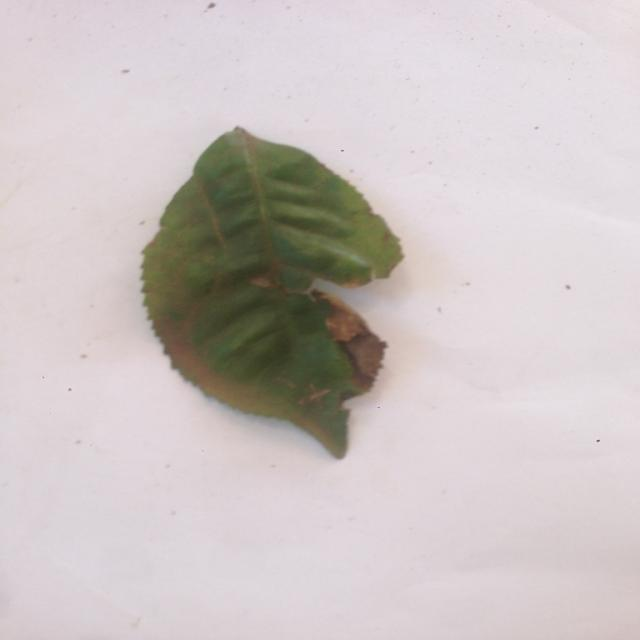Brown Blight: (129, 105, 441, 466)
